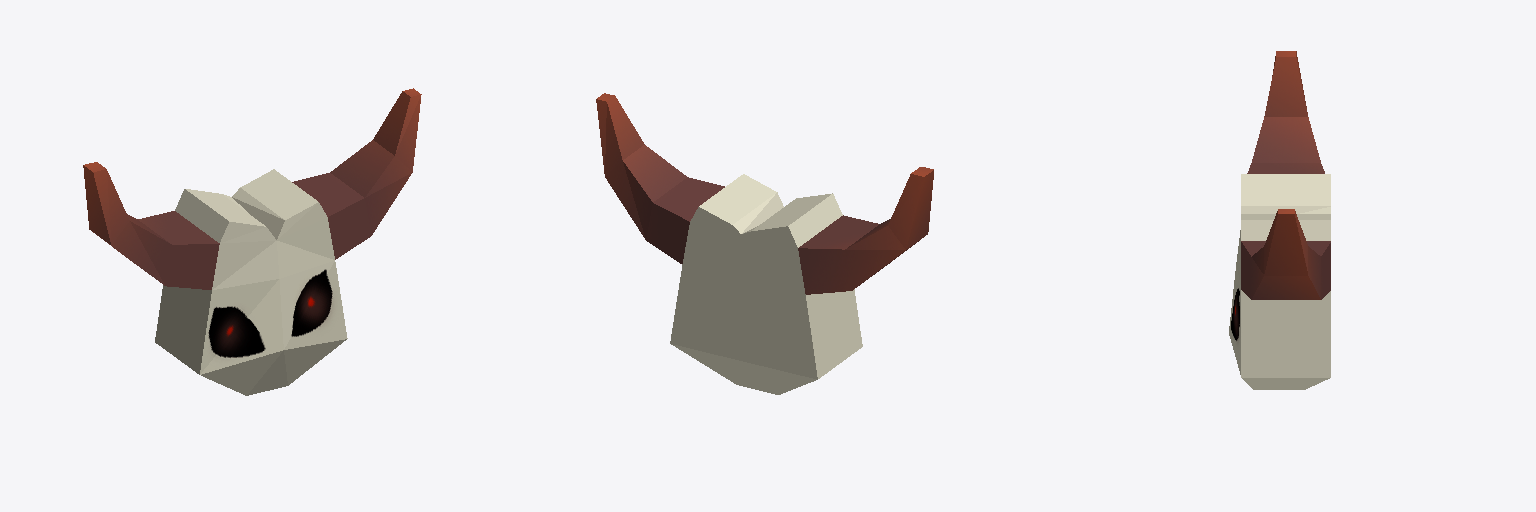
The picture shows the model from 3 angles: view 1: azimuth 30°, elevation 25°; view 2: azimuth 150°, elevation 25°; view 3: azimuth 270°, elevation 25°; orthographic projection.
Visible parts, largest first — view 1: horneddemon1:group1floatingheaddemonfloatingheadgroup2; view 2: horneddemon1:group1floatingheaddemonfloatingheadgroup2; view 3: horneddemon1:group1floatingheaddemonfloatingheadgroup2.
Boxes of the visible parts, box(x1,y1,x2,y2) form: horneddemon1:group1floatingheaddemonfloatingheadgroup2: box(83, 88, 421, 395); horneddemon1:group1floatingheaddemonfloatingheadgroup2: box(596, 93, 933, 394); horneddemon1:group1floatingheaddemonfloatingheadgroup2: box(1229, 51, 1330, 389).
Bounding box in the file's own units: 20.3 × 14.75 × 5.47.
1 materials, 1 textured.